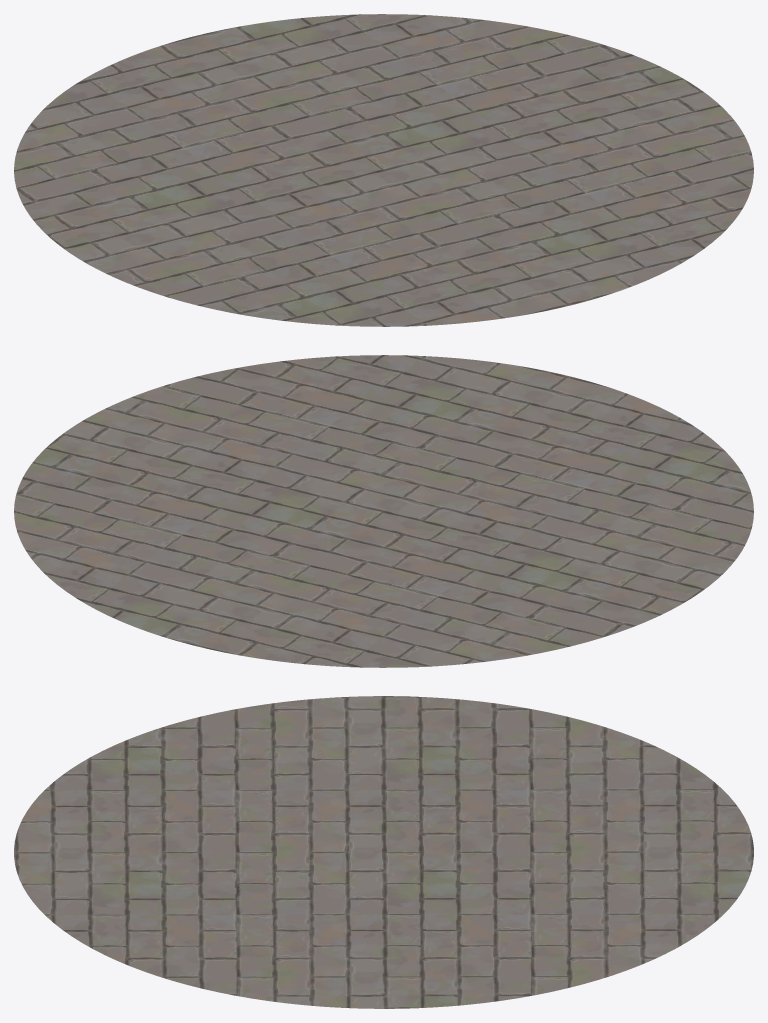
File: Floor.fbx
3 views of the same model, one above another, from view 1: azimuth 30°, elevation 25°; view 2: azimuth 150°, elevation 25°; view 3: azimuth 270°, elevation 25° (orthographic).
Parts seen in each view (by area): view 1: Floor; view 2: Floor; view 3: Floor.
Part boxes in pixels (left/top/right/bottom): Floor: left=14, top=14, right=753, bottom=326; Floor: left=14, top=355, right=753, bottom=667; Floor: left=14, top=696, right=753, bottom=1008.
Size of the model in its own units: 9968 by 0.00132 by 9968.
